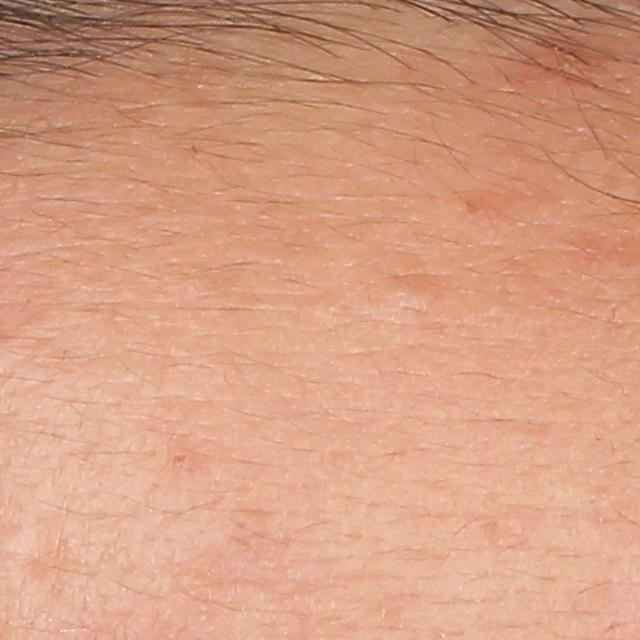comedo: (374, 281, 431, 314), (166, 445, 197, 478)
